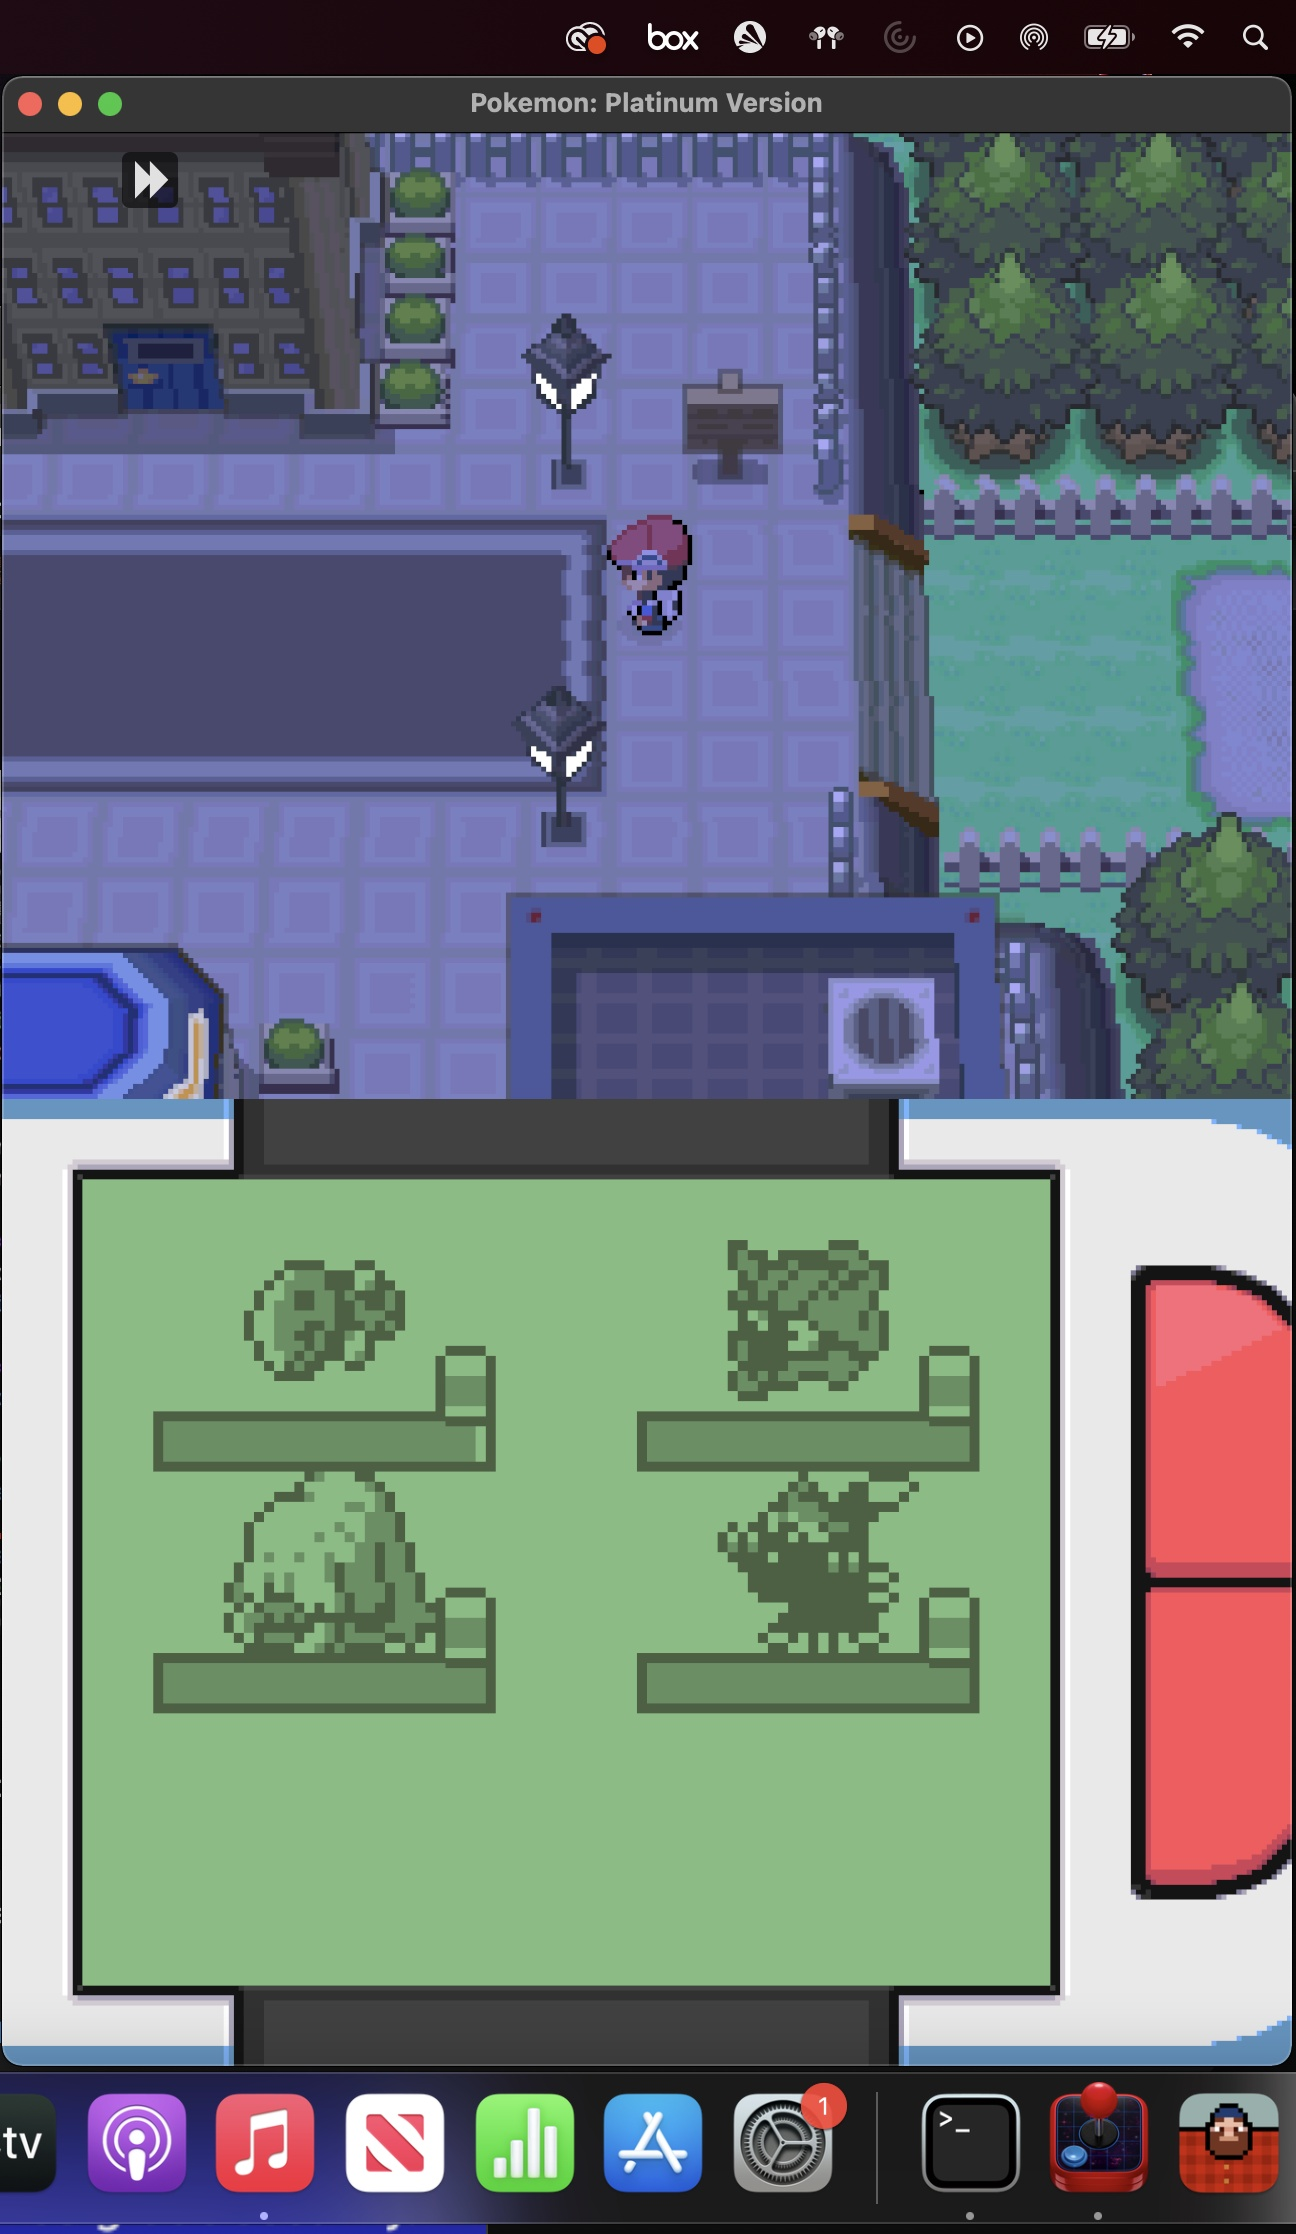player: (587, 500, 712, 647)
turn left: (506, 317, 808, 513)
